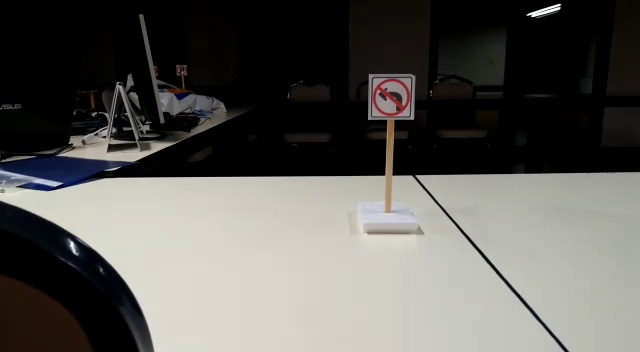sola_donulmez: (371, 74, 414, 114)
